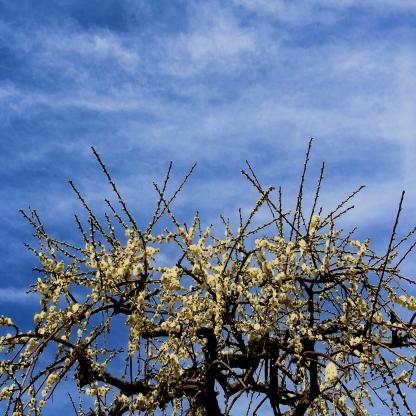Ume: (0, 137, 416, 416)
